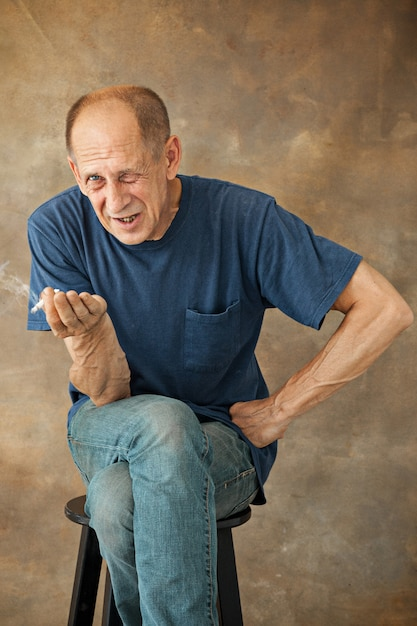cigarette: (27, 286, 60, 315)
